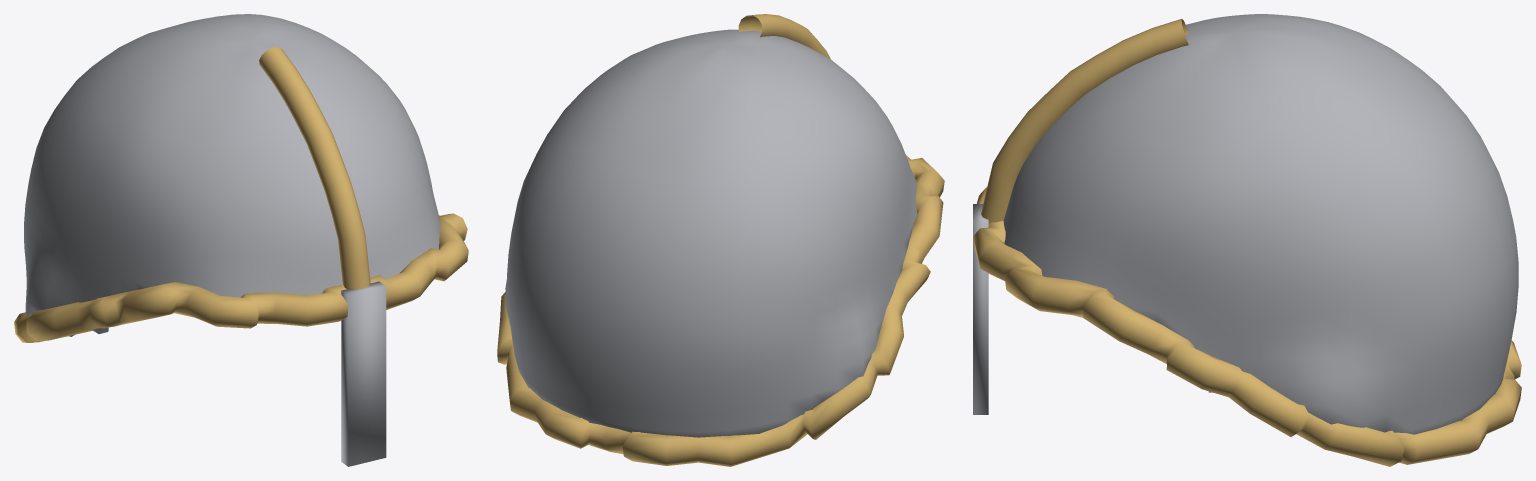
The model's file is auf-basemann3d.glb.
The picture shows the model from 3 angles, left to right: view 1: azimuth 30°, elevation 25°; view 2: azimuth 150°, elevation 25°; view 3: azimuth 270°, elevation 25°; orthographic projection. The views are drawn at different scales.
Parts seen in each view (by area): view 1: Sphere; view 2: Sphere; view 3: Sphere.
Boxes of the visible parts, x1,y1,x2,y2 form: Sphere: [14, 14, 468, 466]; Sphere: [497, 14, 944, 466]; Sphere: [973, 14, 1521, 466].
Size of the model in its own units: 0.2248 by 0.1921 by 0.2485.
